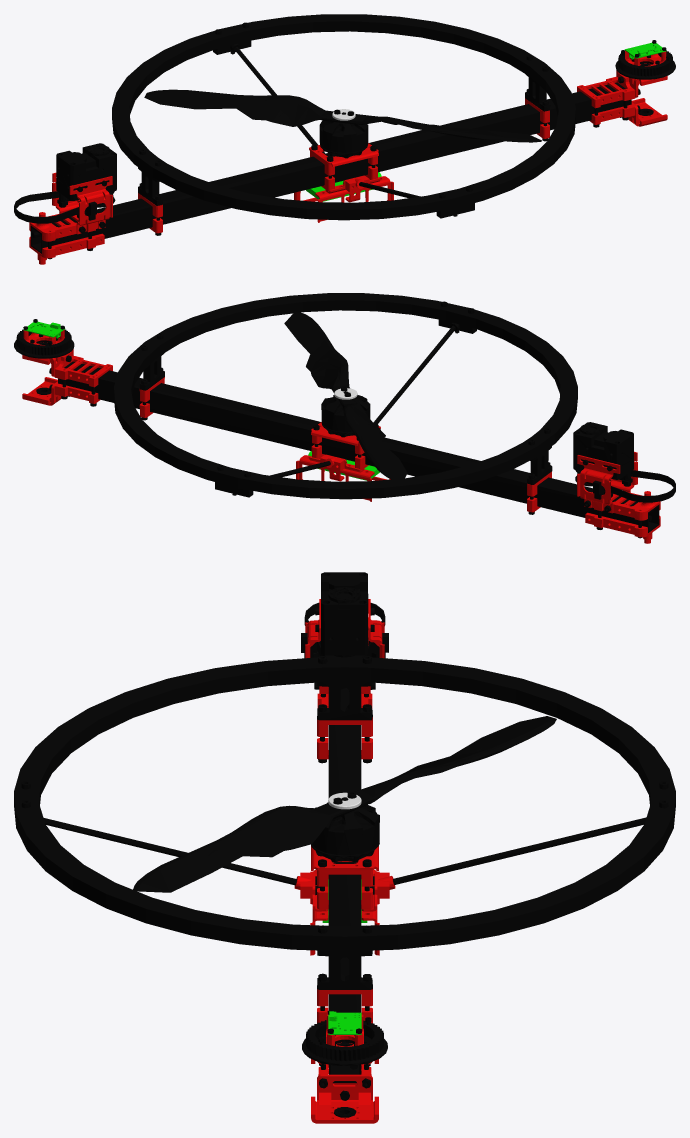
3 renders of one model, top to bottom at view 1: azimuth 30°, elevation 25°; view 2: azimuth 150°, elevation 25°; view 3: azimuth 270°, elevation 25°, orthographic. The views are drawn at different scales.
Visible parts, largest first — view 1: link3_black_part, link3_red_part, link3_green_part; view 2: link3_black_part, link3_red_part, link3_green_part; view 3: link3_black_part, link3_red_part, link3_green_part.
Boxes of the visible parts, bbox=[...] form: link3_black_part: bbox=[14, 14, 675, 259]; link3_red_part: bbox=[29, 51, 667, 264]; link3_green_part: bbox=[306, 42, 666, 201]; link3_black_part: bbox=[14, 293, 675, 538]; link3_red_part: bbox=[22, 330, 660, 543]; link3_green_part: bbox=[23, 321, 379, 480]; link3_black_part: bbox=[14, 572, 675, 1117]; link3_red_part: bbox=[294, 599, 395, 1123]; link3_green_part: bbox=[322, 879, 367, 1034].
Bounding box in the file's own units: 0.6504 × 0.3997 × 0.1098.
